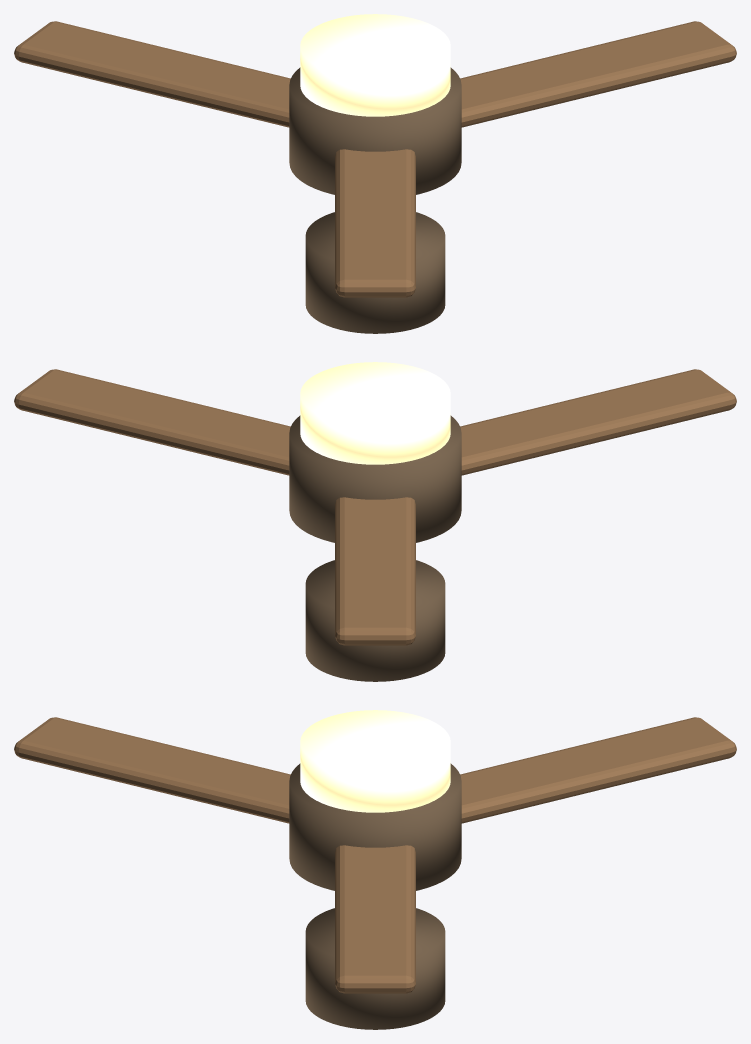
The model's file is ceiling-fan-light.glb.
3 renders of one model, top to bottom at view 1: azimuth 30°, elevation 25°; view 2: azimuth 150°, elevation 25°; view 3: azimuth 270°, elevation 25°, orthographic.
Parts seen in each view (by area): view 1: Ceiling canopy; view 2: Ceiling canopy; view 3: Ceiling canopy.
Boxes of the visible parts, <box> form: Ceiling canopy: <box>14,14,736,333</box>; Ceiling canopy: <box>14,362,736,681</box>; Ceiling canopy: <box>14,710,736,1029</box>.
Size of the model in its own units: 1.17 by 0.53 by 1.34.
